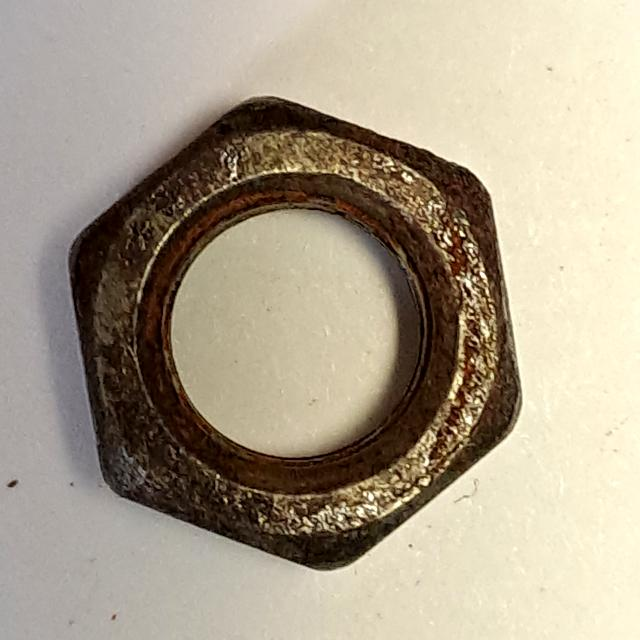Rust: (55, 85, 535, 586)
